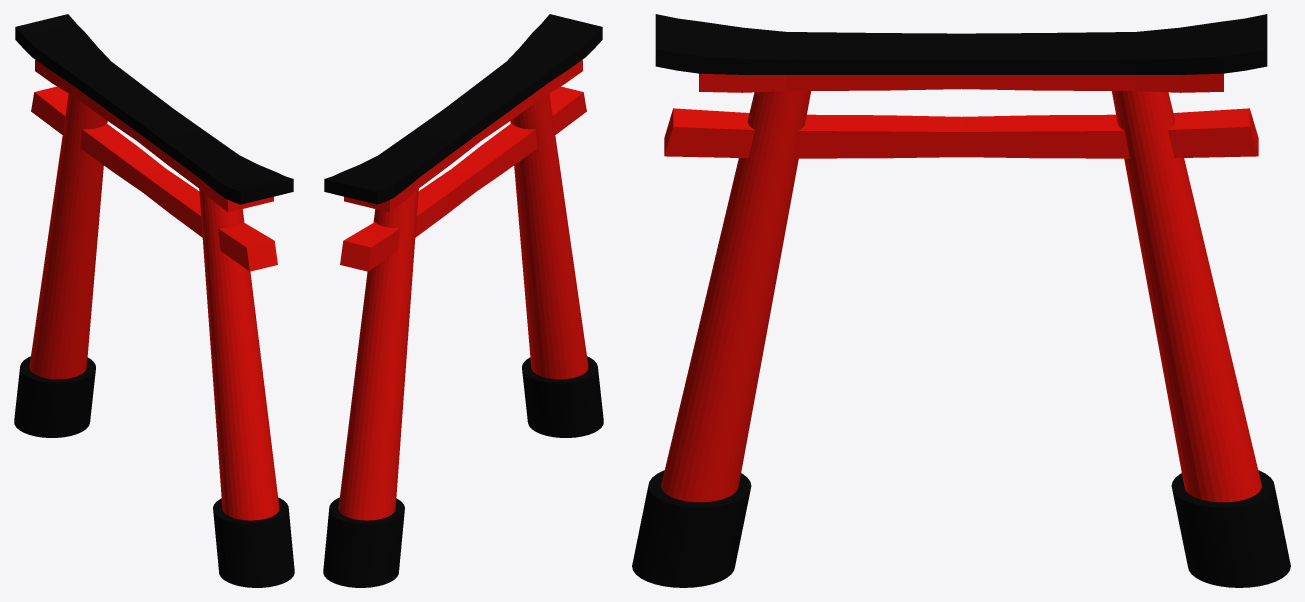
File: Grande arche.fbx
The picture shows the model from 3 angles, left to right: view 1: azimuth 30°, elevation 25°; view 2: azimuth 150°, elevation 25°; view 3: azimuth 270°, elevation 25°; orthographic projection. The views are drawn at different scales.
Parts seen in each view (by area): view 1: Arche; view 2: Arche; view 3: Arche.
Boxes of the visible parts, bbox=[...] form: Arche: bbox=[14, 14, 294, 587]; Arche: bbox=[323, 14, 603, 587]; Arche: bbox=[632, 14, 1290, 587].
Size of the model in its own units: 74.84 by 428 by 478.
